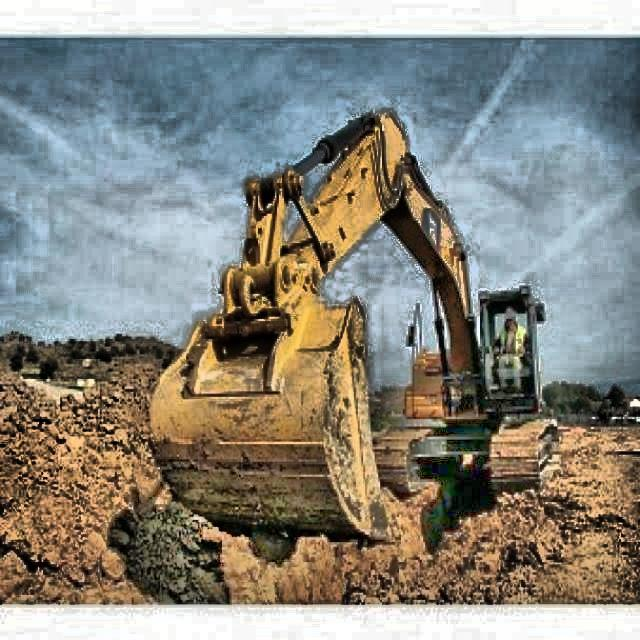bull_dozer/loader/grader: (145, 106, 564, 548)
person: (498, 304, 533, 391)
